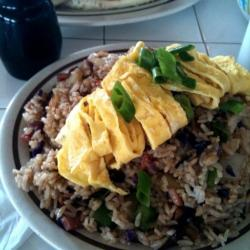omelette: (64, 45, 243, 168)
rice: (145, 155, 232, 226)
